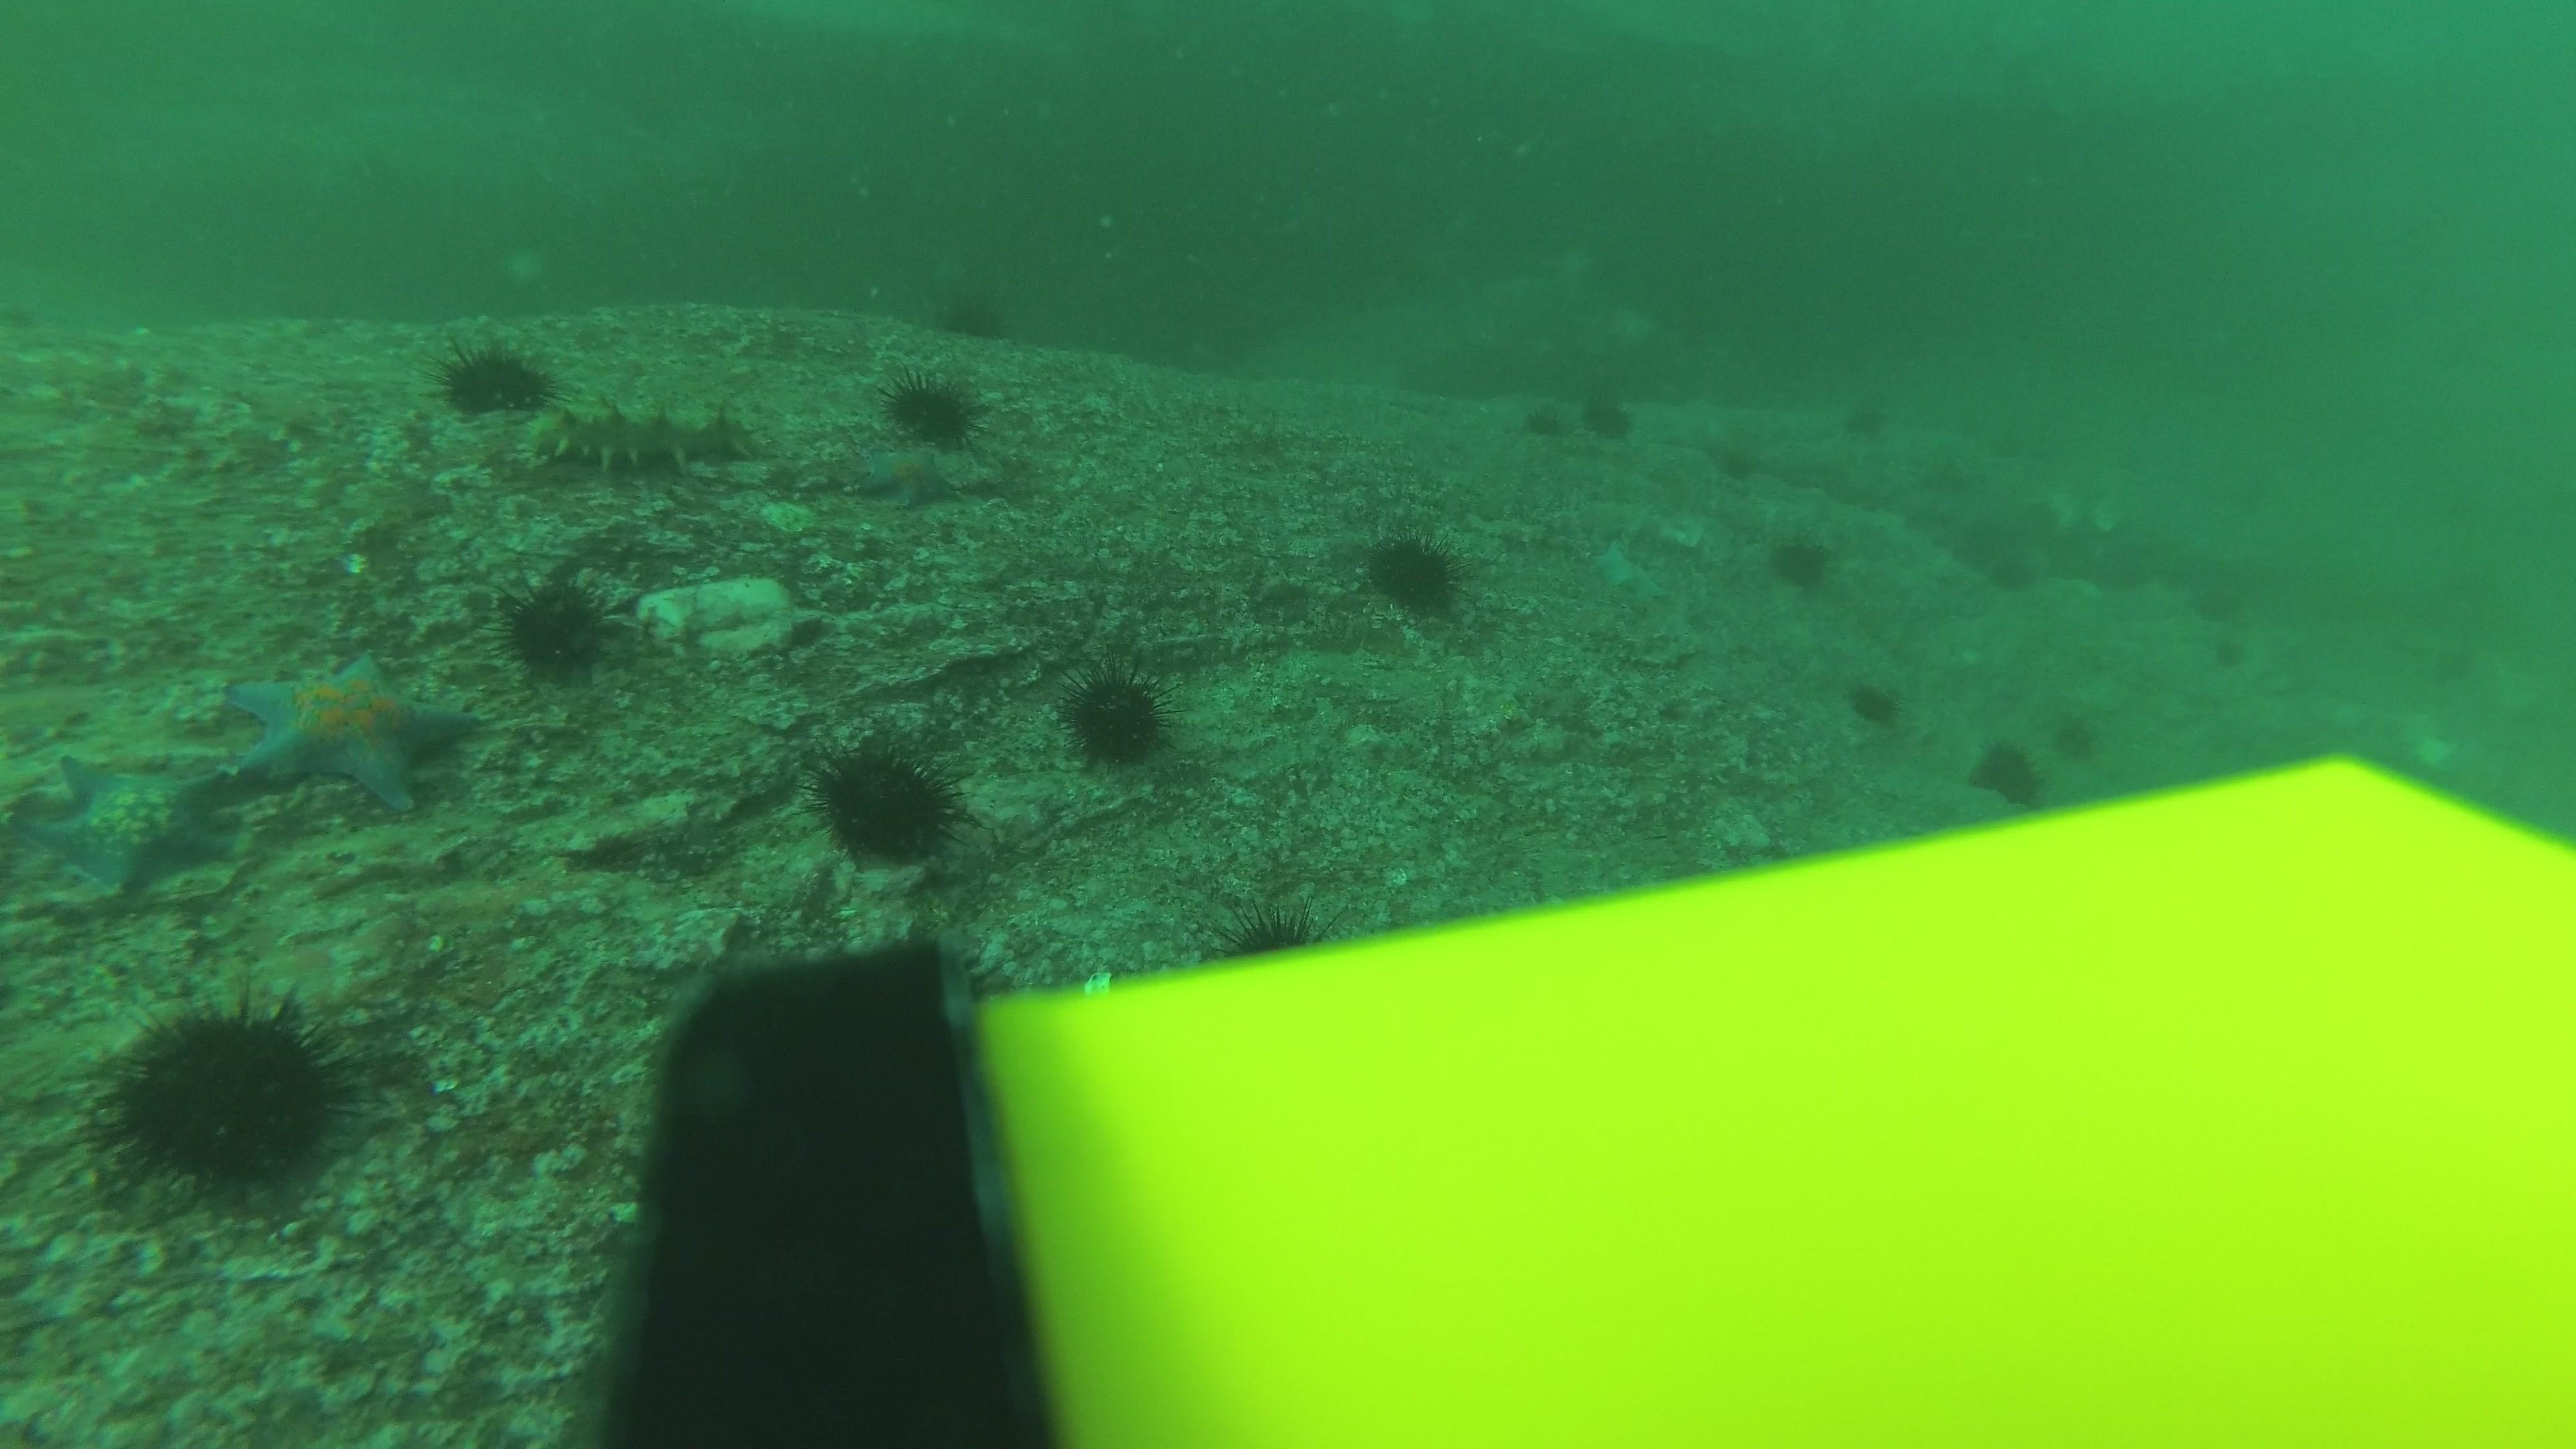echinus: (90, 985, 361, 1201), (809, 734, 962, 867), (495, 571, 619, 683), (1058, 662, 1173, 770), (435, 334, 552, 418), (1361, 525, 1467, 616), (883, 366, 984, 449), (1215, 901, 1322, 962), (1969, 734, 2049, 807), (1766, 525, 1836, 591), (936, 281, 1008, 341), (1576, 386, 1637, 442), (1845, 674, 1904, 729), (1982, 550, 2033, 591), (1518, 400, 1569, 439), (1838, 403, 1890, 442), (2042, 722, 2093, 761), (2203, 630, 2254, 669)
holothurian: (520, 395, 757, 483)
starfish: (218, 644, 483, 816), (19, 747, 241, 902), (847, 444, 962, 510), (1587, 534, 1667, 609)
